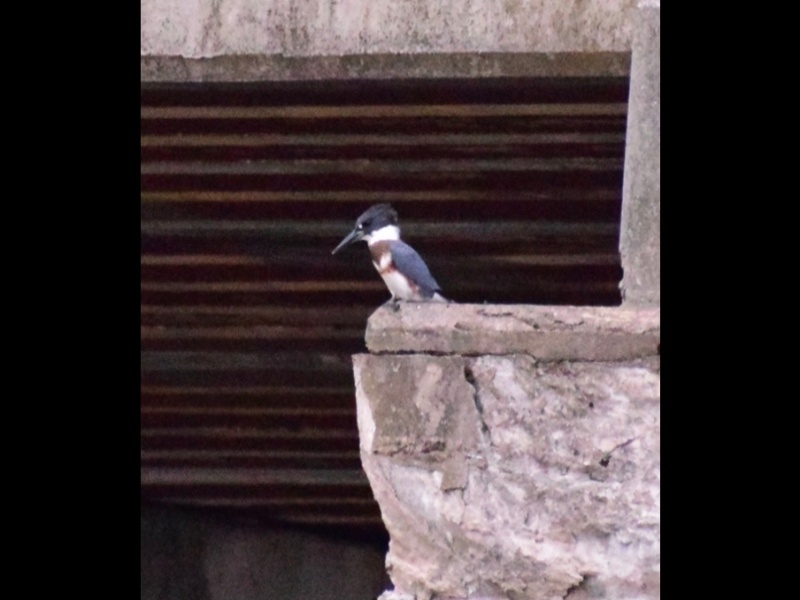kingfisher: (329, 202, 457, 312)
